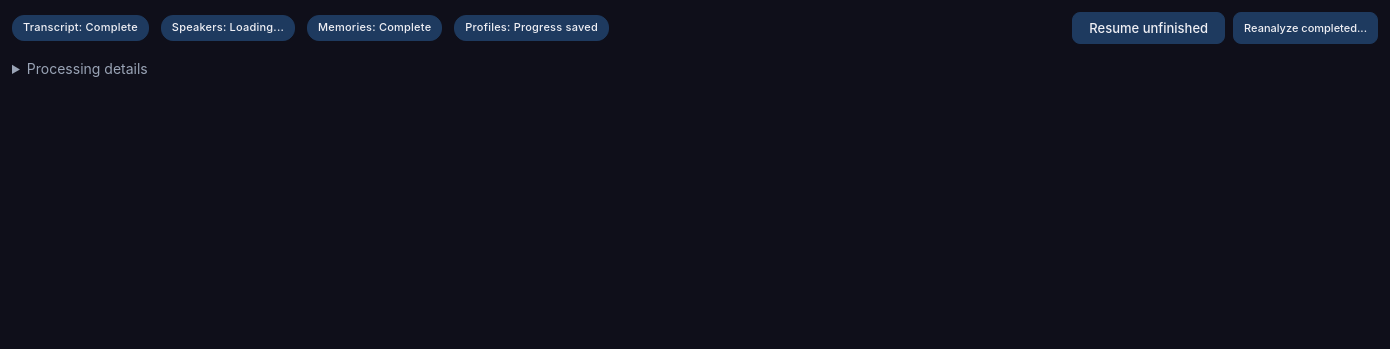
Test: shows saved persona progress in the badge and explains its last timeout
This screenshot has width=1390, height=349.
Click the heading "Processing details" at (87, 68), box [27,60,148,77]
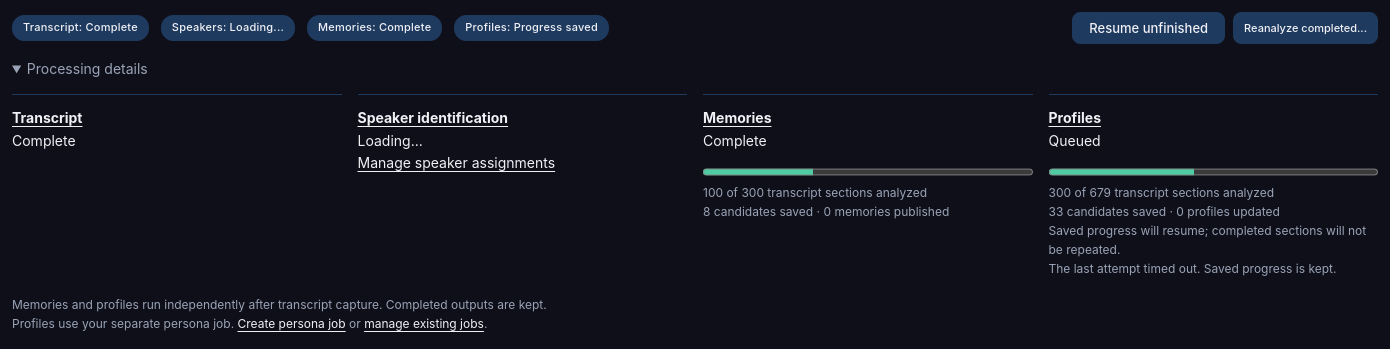
Result: the progress indicator named "Profile analysis progress" holds "300" at [1048,165,1378,179]
Result: the message reads "The last attempt timed out. Saved progress is kept." at [1048,261,1336,276]
